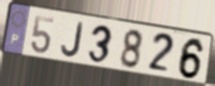2: (145, 31, 177, 78)
3: (86, 23, 118, 66)
5: (30, 14, 56, 55)
6: (176, 37, 207, 81)
8: (119, 28, 145, 71)
J: (60, 21, 85, 59)
